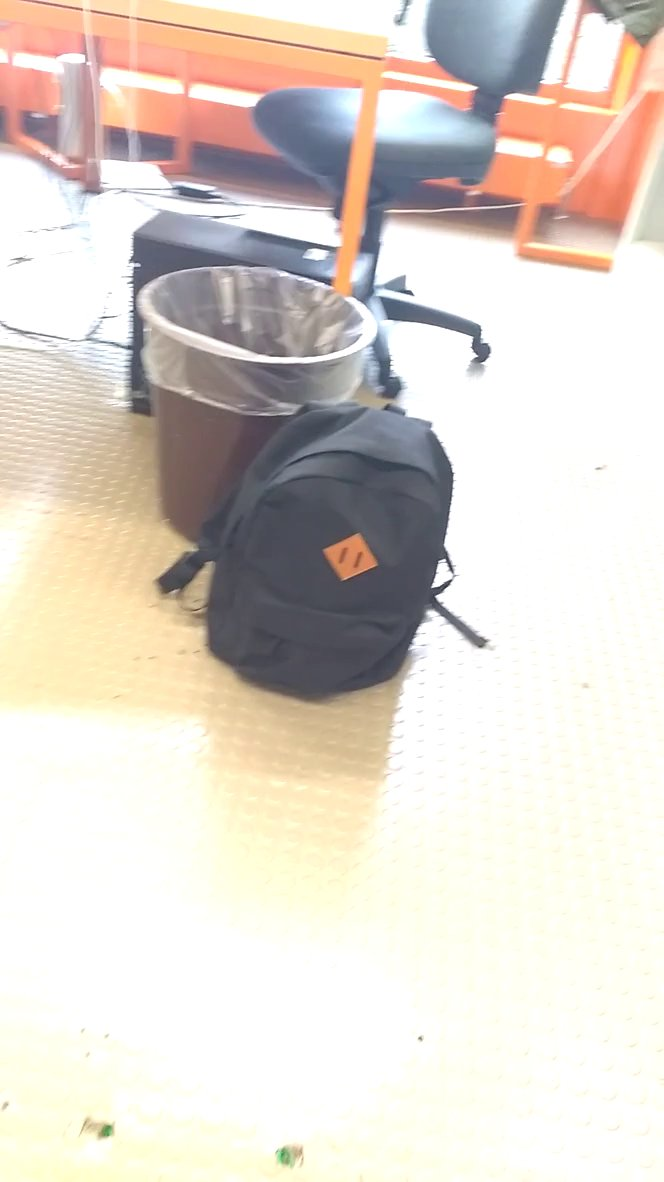bag: (154, 395, 464, 706)
bin: (137, 259, 386, 468)
chair: (238, 1, 575, 396)
